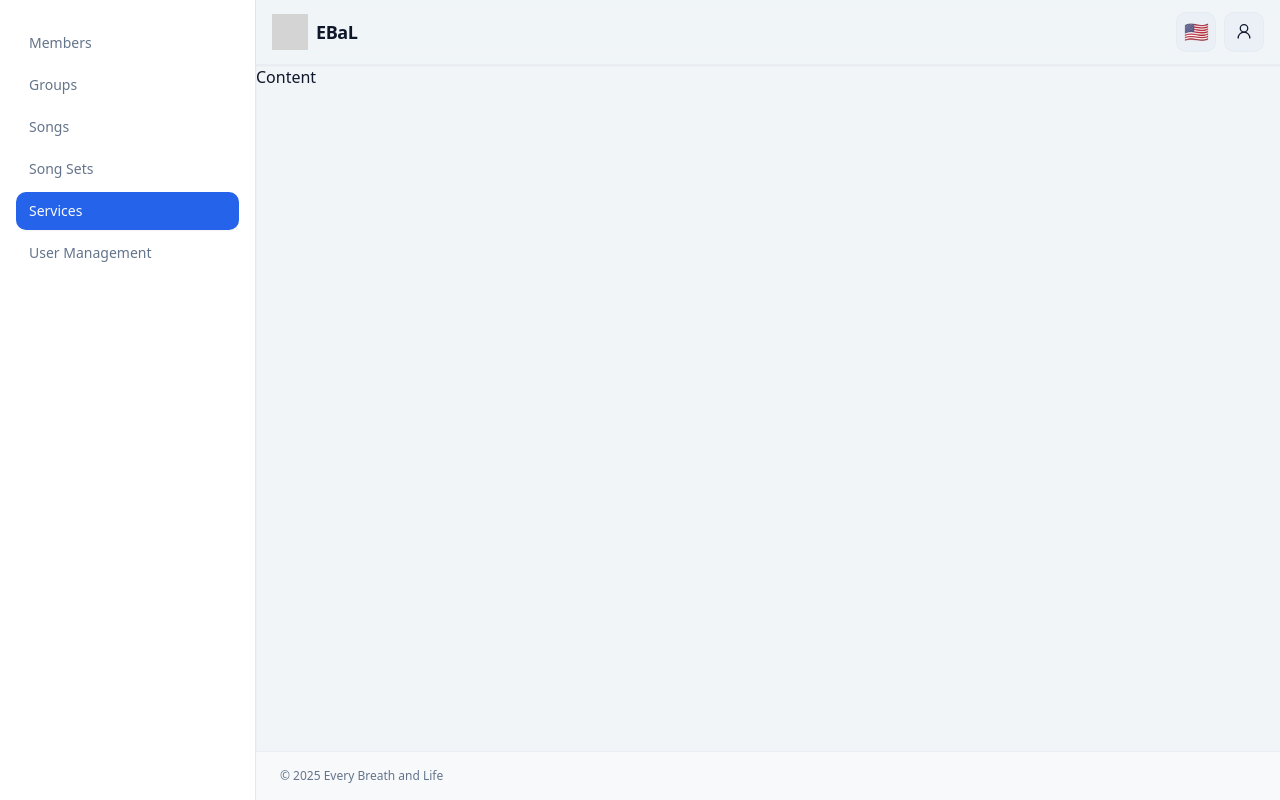
Test: AppShell › opens the account menu from the header when authenticated
What coordinates should you click on to do the following:
click the button named "Account options for Test User"
I would click on:
 (1244, 32)
Its box is [1224,12,1264,52].
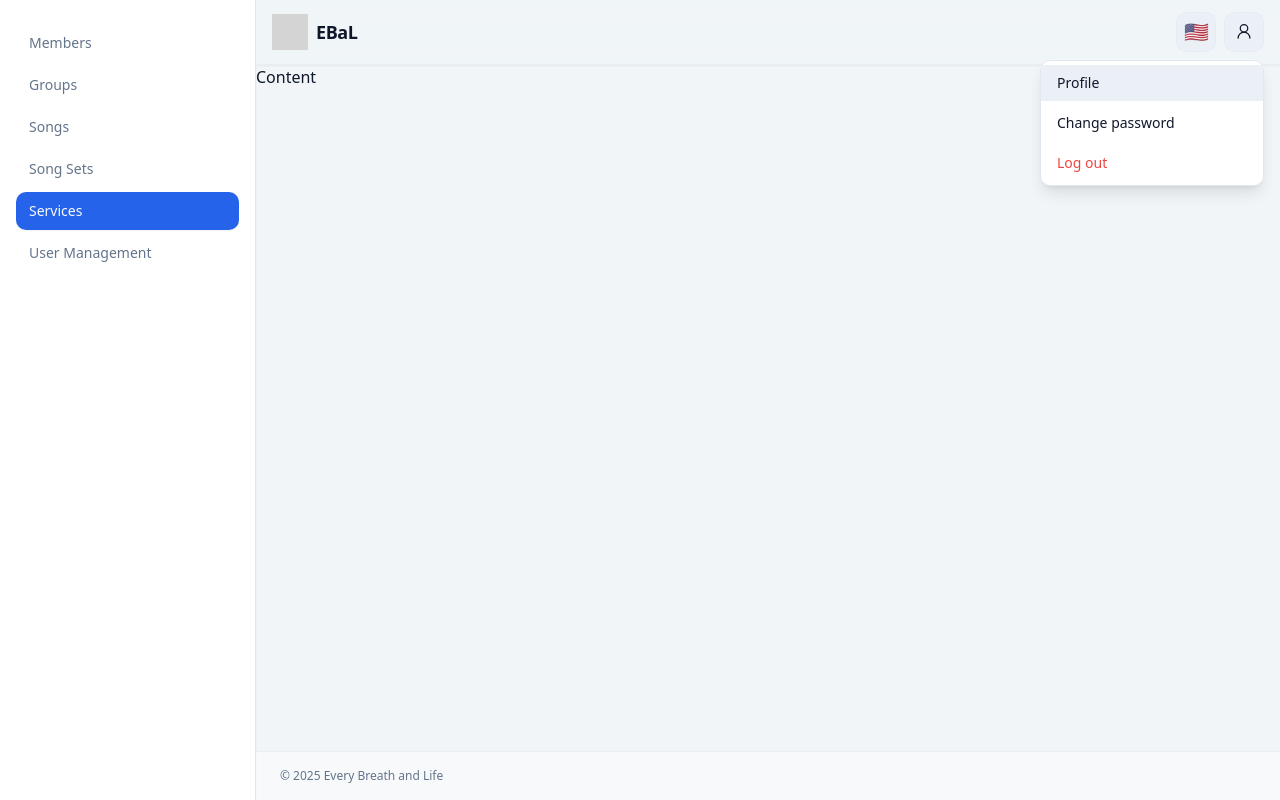
Expected: the menu item "Profile" is shown, [1041,65,1263,101]
Expected: the menu item "Change password" is shown, [1041,105,1263,141]
Expected: the menu item "Log out" is shown, [1041,145,1263,181]
